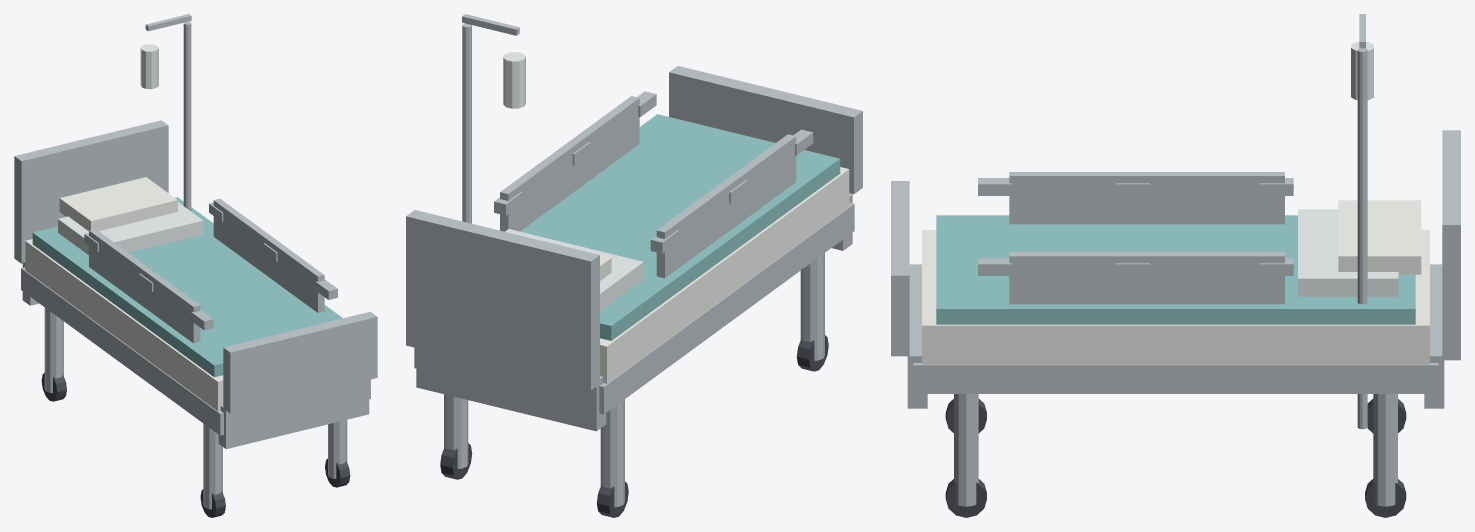
The model's file is hospital-bed.glb.
3 renders of one model, left to right at view 1: azimuth 30°, elevation 25°; view 2: azimuth 150°, elevation 25°; view 3: azimuth 270°, elevation 25°, orthographic. The views are drawn at different scales.
Visible parts, largest first — view 1: Hospital bed - An Phu infirmary; view 2: Hospital bed - An Phu infirmary; view 3: Hospital bed - An Phu infirmary.
Part boxes in pixels (x1,y1,x2,y2): Hospital bed - An Phu infirmary: (14, 14, 377, 517); Hospital bed - An Phu infirmary: (406, 14, 862, 517); Hospital bed - An Phu infirmary: (891, 14, 1460, 517).
Bounding box in the file's own units: 0.8 × 1.82 × 1.99.
